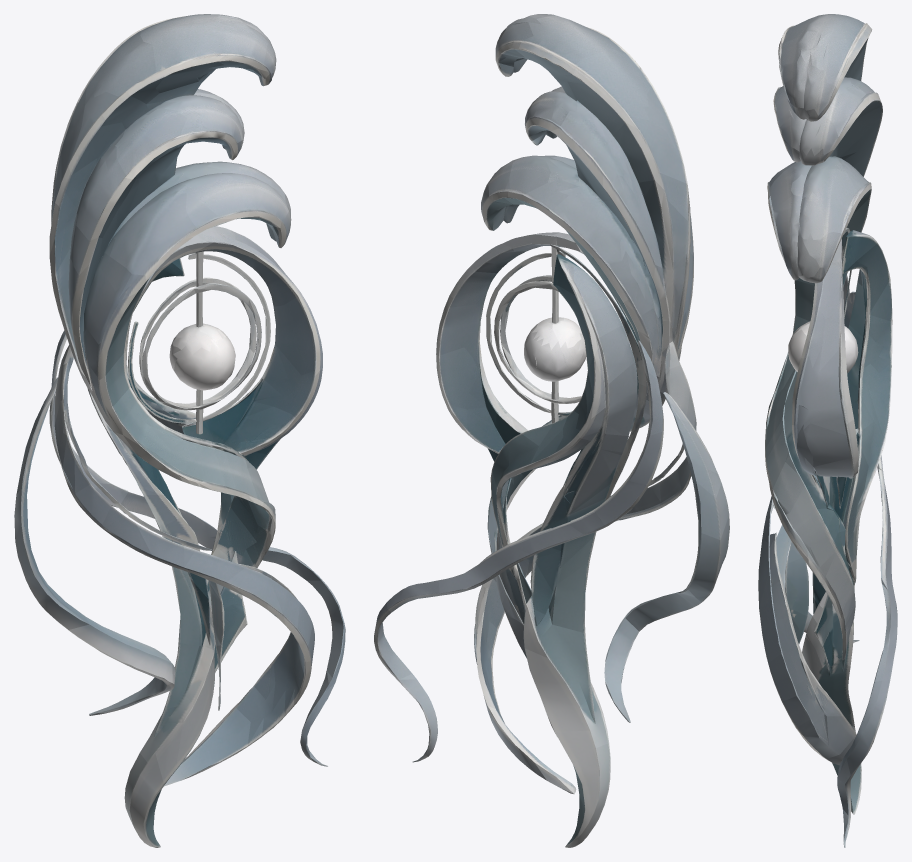
3 views of the same model, side by side, from view 1: azimuth 30°, elevation 25°; view 2: azimuth 150°, elevation 25°; view 3: azimuth 270°, elevation 25° (orthographic). The views are drawn at different scales.
Bounding box in the file's own units: 0.816 × 1.9 × 0.2993.
Materials: 1 (1 with a texture image).
